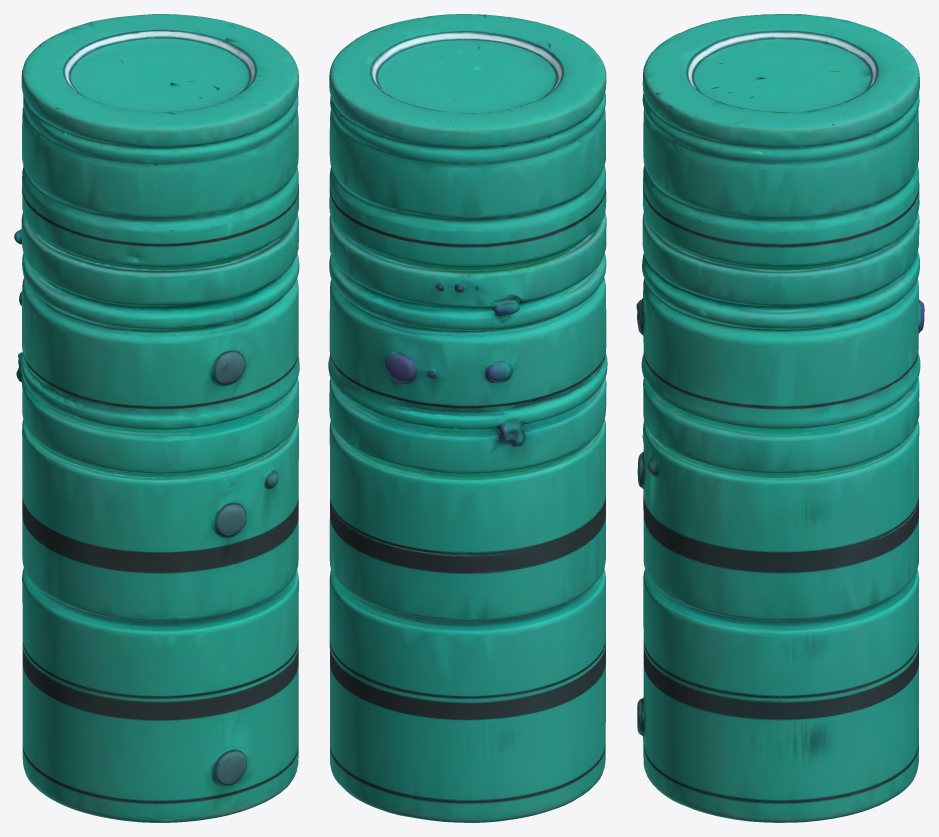
Rendered from ratingsSource.glb.
3 views of the same model, side by side, from view 1: azimuth 30°, elevation 25°; view 2: azimuth 150°, elevation 25°; view 3: azimuth 270°, elevation 25° (orthographic).
Bounding box in the file's own units: 0.7238 × 2 × 0.7492.
Materials: 1 (1 with a texture image).
